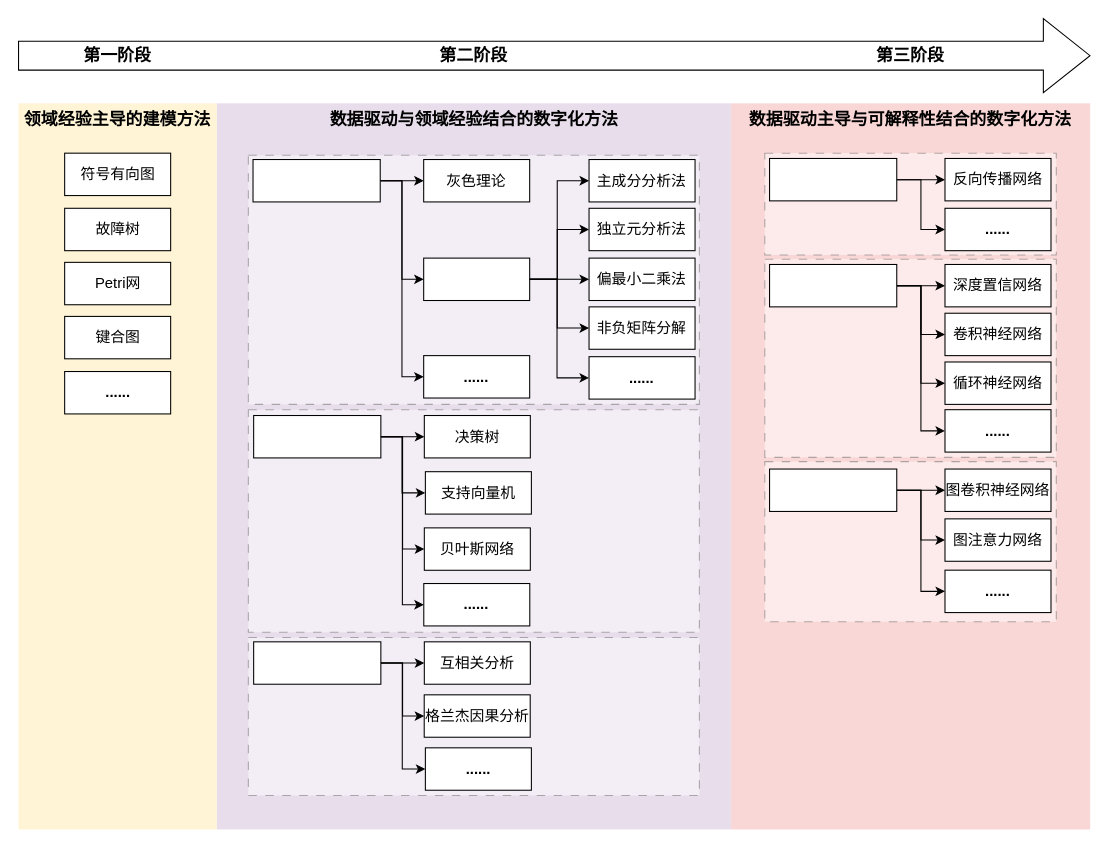
The diagram is 1109 pixels wide and 848 high, and some of its shapes have lost their labels. Each missing label, with the centre of its shape:
基于图神经网络的故障诊断方法: the point at 832,489
基于时序特征的时序分析方法: the point at 317,662
基于浅层神经网络的故障诊断方法: the point at 832,179
基于深度学习的故障诊断方法: the point at 832,285
基于特征关联的学习方法: the point at 316,180
基于特征工程的学习方法: the point at 317,436
多元统计分析: the point at 476,279
